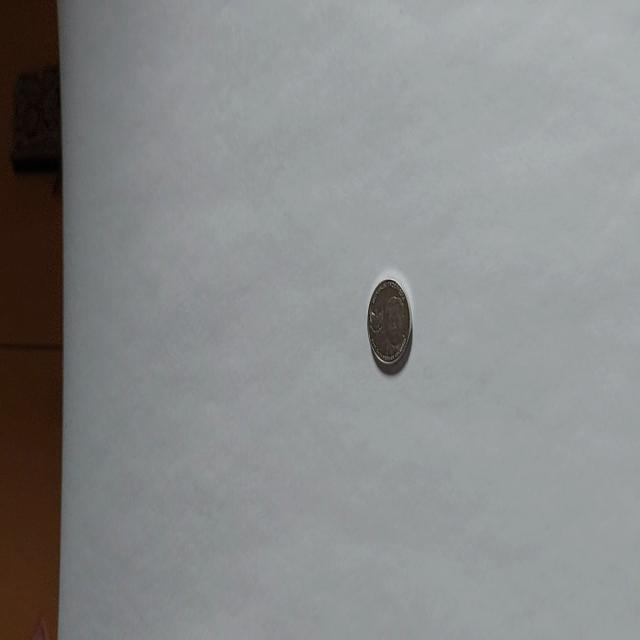seratus rupiah: (366, 276, 412, 374)
